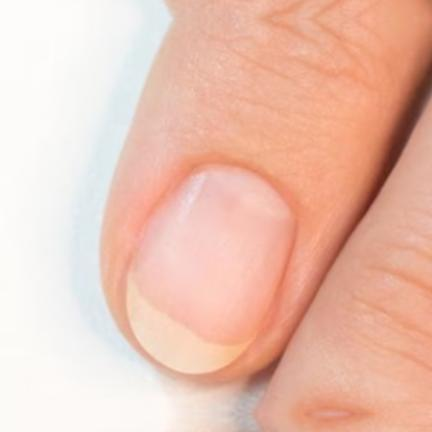Nail: (126, 161, 294, 374)
